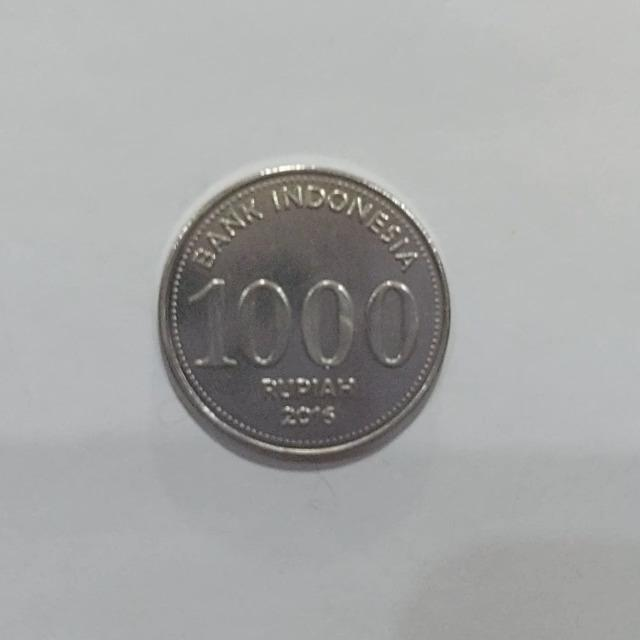Rp100: (155, 160, 452, 470)
